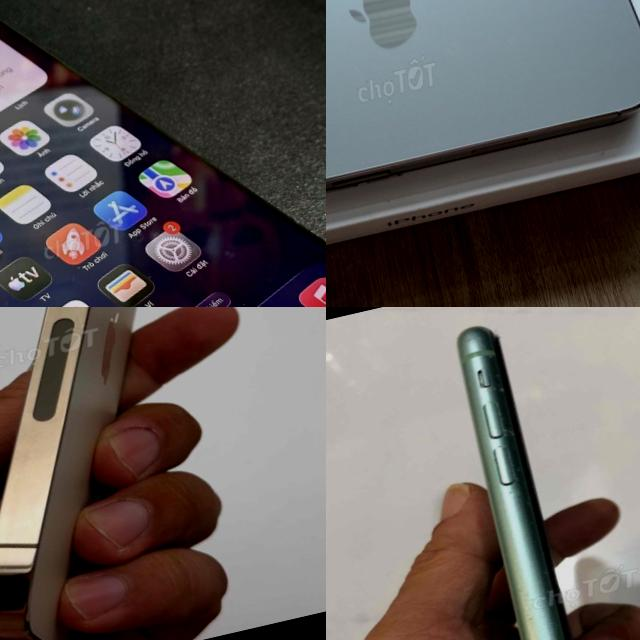gen_11: (456, 326, 572, 640)
gen_14: (0, 307, 135, 640)
gen_16: (0, 0, 326, 307), (326, 0, 640, 231)
scratch: (466, 336, 543, 544), (510, 580, 551, 640), (539, 566, 559, 588)
